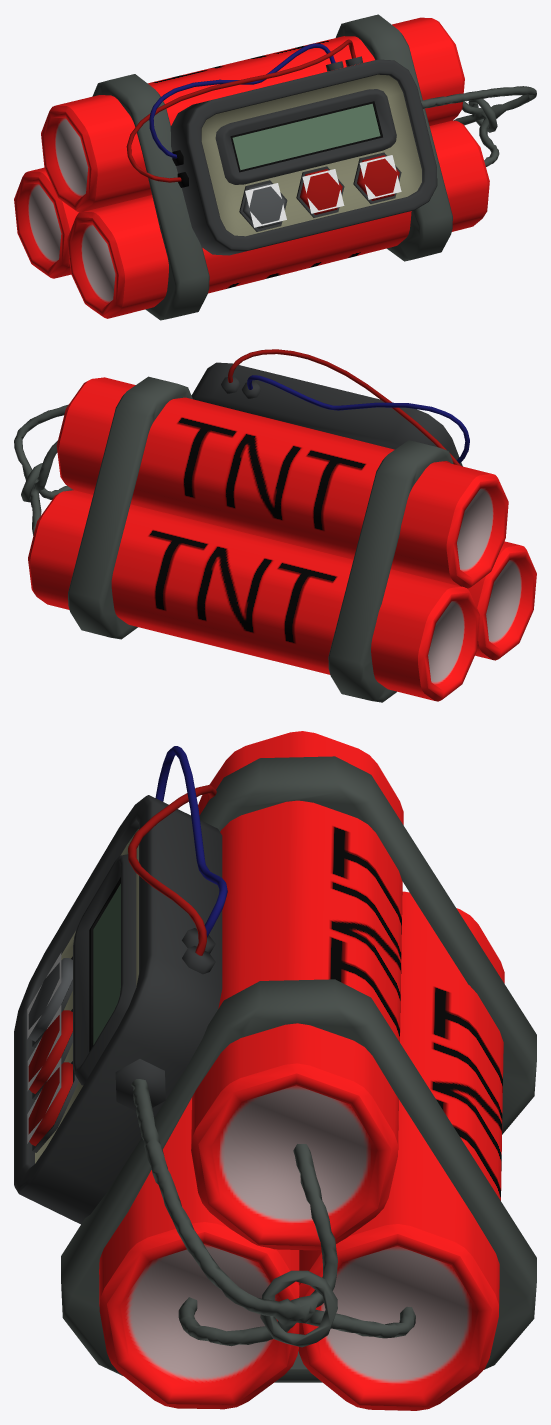
Rendered from TNT_3_Timer.fbx.
3 renders of one model, top to bottom at view 1: azimuth 30°, elevation 25°; view 2: azimuth 150°, elevation 25°; view 3: azimuth 270°, elevation 25°, orthographic. The views are drawn at different scales.
Parts seen in each view (by area): view 1: Body, TNT3.001, TNT3.002, Ties, Dial, TNT3, fetil, Button_1, Button_2, Button_Reset, Ring; view 2: TNT3.002, TNT3, Ties, Body, TNT3.001, fetil; view 3: TNT3.002, Body, TNT3, Ties, TNT3.001, fetil, Dial, Ring.
Boxes of the visible parts, box(x1,y1,x2,y2) form: Body: box(126, 39, 437, 255); TNT3.001: box(67, 120, 489, 318); TNT3.002: box(41, 17, 464, 212); Ties: box(92, 14, 452, 320); Dial: box(232, 103, 380, 170); TNT3: box(14, 167, 78, 278); fetil: box(421, 86, 536, 166); Button_1: box(359, 155, 401, 199); Button_2: box(302, 169, 344, 213); Button_Reset: box(245, 183, 286, 227); Ring: box(468, 99, 497, 132); TNT3.002: box(56, 377, 508, 588); TNT3: box(28, 490, 479, 701); Ties: box(68, 376, 453, 702); Body: box(191, 349, 469, 466); TNT3.001: box(468, 541, 536, 660); fetil: box(14, 404, 73, 535); TNT3.002: box(191, 731, 403, 1250); Body: box(14, 746, 227, 1224); TNT3: box(298, 891, 504, 1410); Ties: box(61, 756, 536, 1382); TNT3.001: box(99, 1098, 299, 1409); fetil: box(131, 1079, 415, 1346); Dial: box(93, 883, 120, 1044); Ring: box(260, 1270, 337, 1347).
Size of what is drawn, in the model's own units: 2.21 by 1.06 by 1.18.
